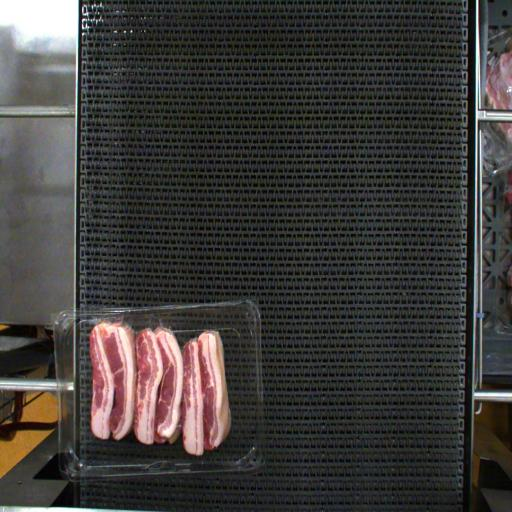packaging-error: (83, 305, 132, 328)
